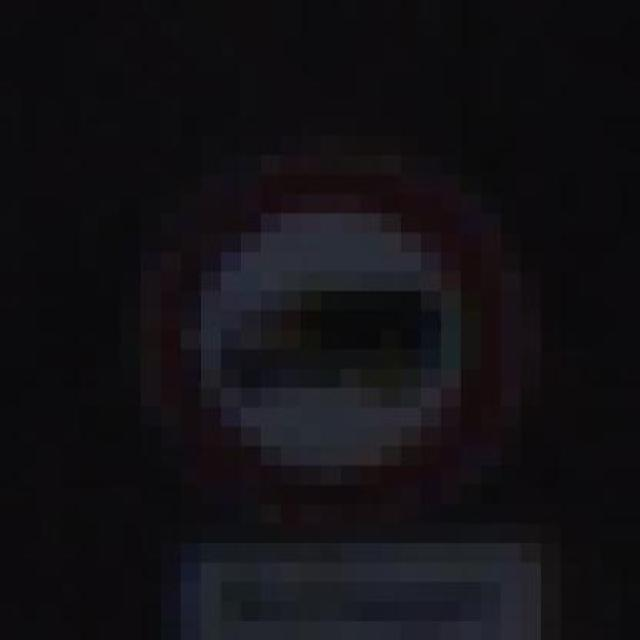Truck traffic is prohibited: (100, 116, 560, 544)
